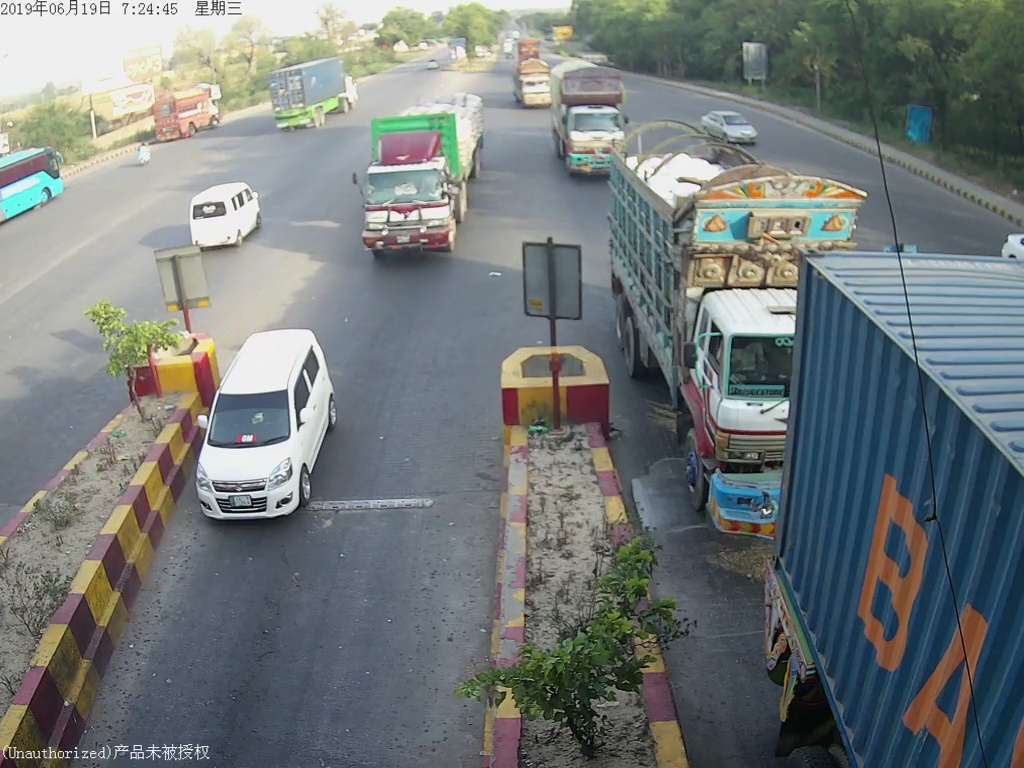Cat-1: (191, 322, 343, 522)
Cat-4: (609, 117, 776, 528)
Cat-5: (351, 90, 490, 255)
